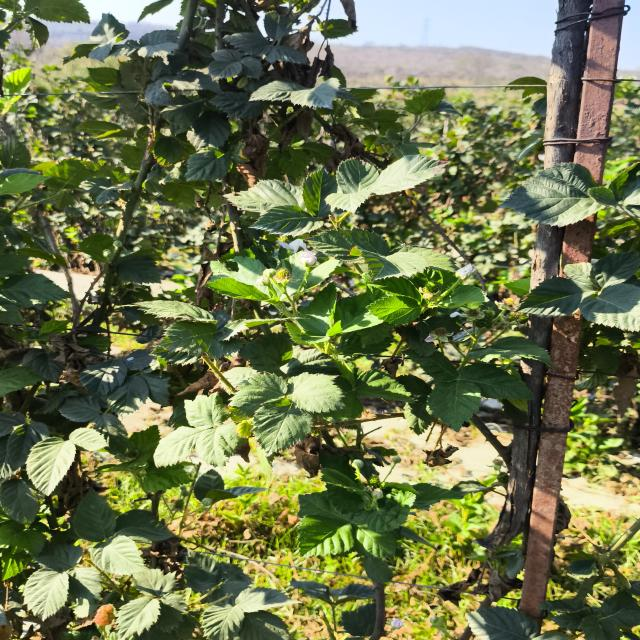boton: (299, 251, 317, 266), (256, 275, 268, 286), (352, 459, 364, 469), (263, 269, 276, 278), (372, 489, 383, 499), (392, 455, 401, 464)
